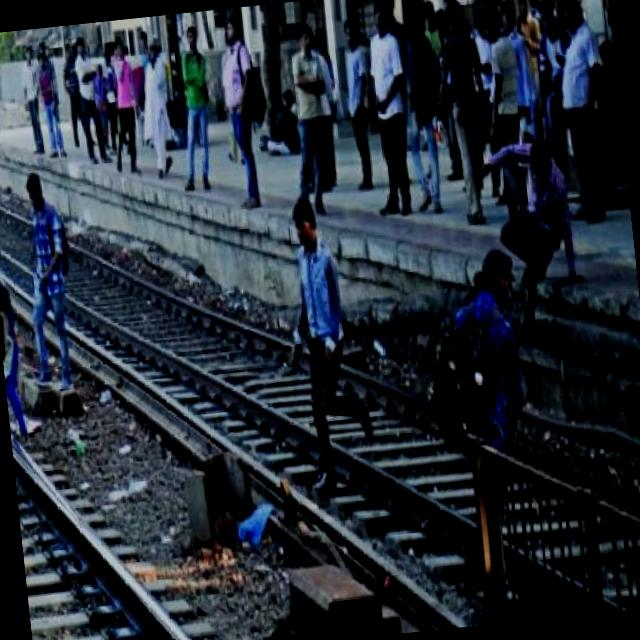Person: (427, 246, 541, 529), (281, 191, 366, 498), (13, 165, 83, 386)
